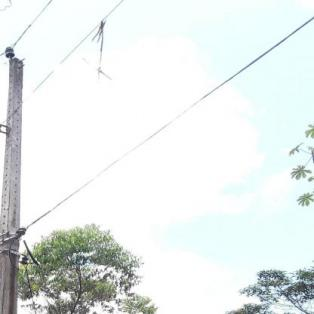Poste: (0, 52, 32, 314)
